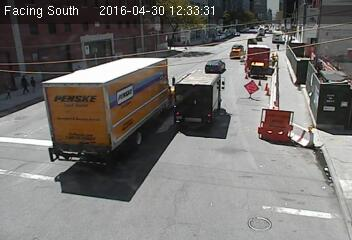neg: (146, 97, 178, 139), (48, 63, 76, 100), (41, 2, 67, 37), (8, 11, 31, 42), (195, 139, 217, 168), (107, 135, 127, 161), (258, 133, 267, 145)
pos: (14, 72, 36, 100), (24, 73, 40, 94), (1, 80, 16, 101), (180, 35, 194, 54), (273, 40, 282, 52)
